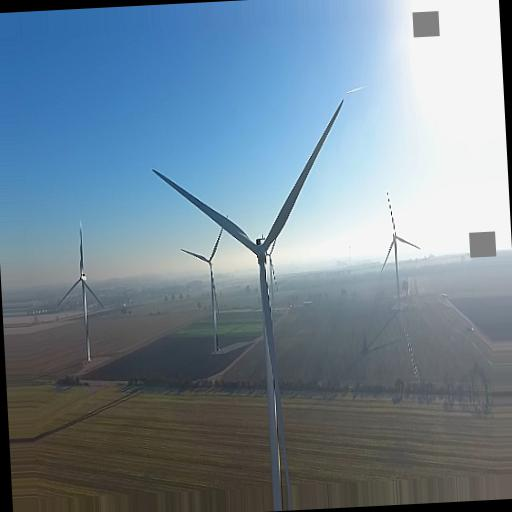wind turbine: (150, 99, 349, 484), (177, 215, 230, 354), (58, 220, 103, 360), (379, 190, 421, 304)
